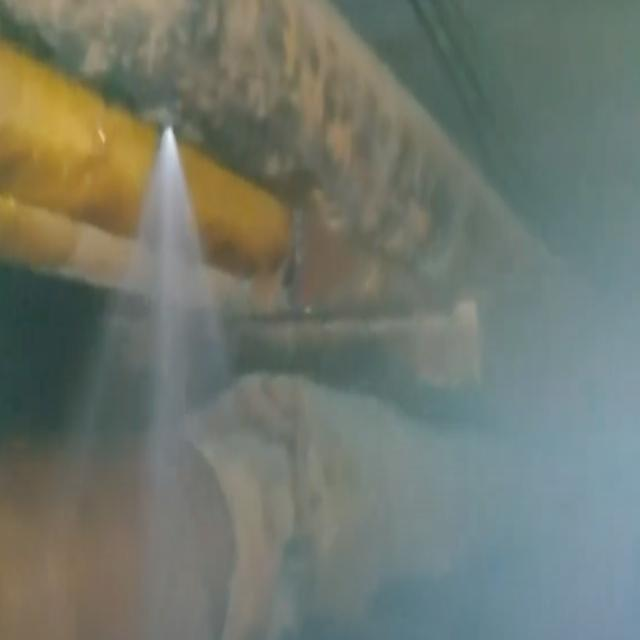leak: (140, 127, 234, 638)
